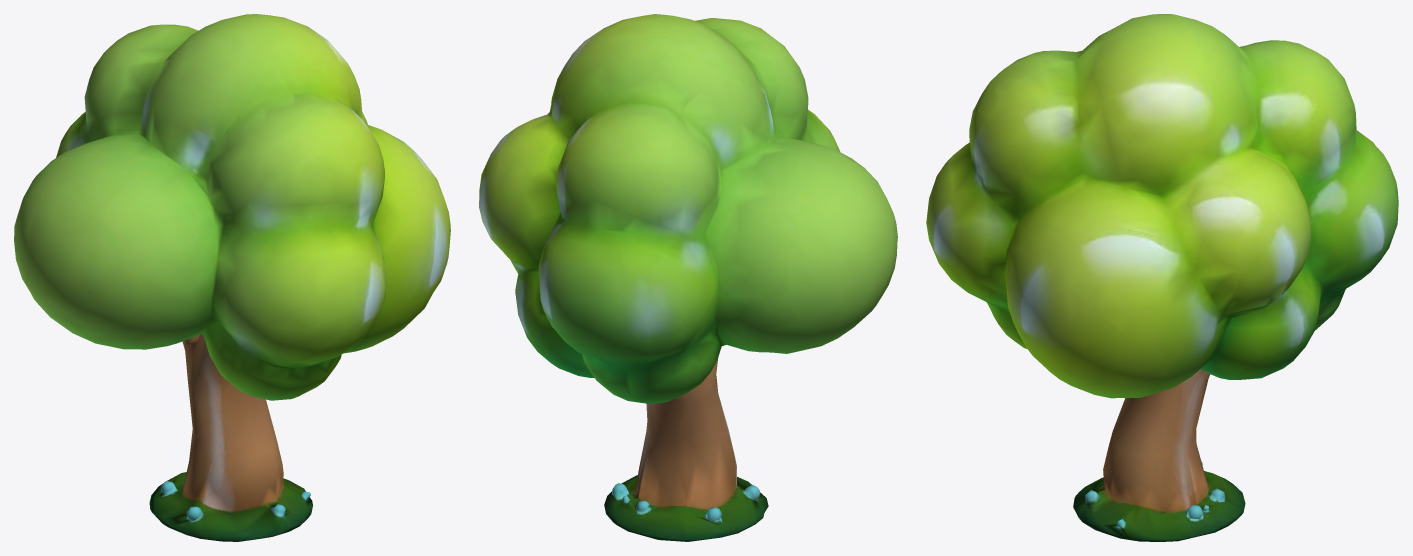
File: arbol.glb
The picture shows the model from 3 angles, left to right: view 1: azimuth 30°, elevation 25°; view 2: azimuth 150°, elevation 25°; view 3: azimuth 270°, elevation 25°; orthographic projection. The views are drawn at different scales.
Visible parts, largest first — view 1: tripo_node_f2bfa4e2-9bc6-42b6-95a8-41dd72116e04; view 2: tripo_node_f2bfa4e2-9bc6-42b6-95a8-41dd72116e04; view 3: tripo_node_f2bfa4e2-9bc6-42b6-95a8-41dd72116e04.
Part boxes in pixels (box(x1,y1,x2,y2)): tripo_node_f2bfa4e2-9bc6-42b6-95a8-41dd72116e04: box(14, 14, 450, 541); tripo_node_f2bfa4e2-9bc6-42b6-95a8-41dd72116e04: box(479, 14, 897, 541); tripo_node_f2bfa4e2-9bc6-42b6-95a8-41dd72116e04: box(926, 14, 1398, 541).
Bounding box in the file's own units: 0.8399 × 0.9992 × 0.8616.
1 material, 1 textured.
